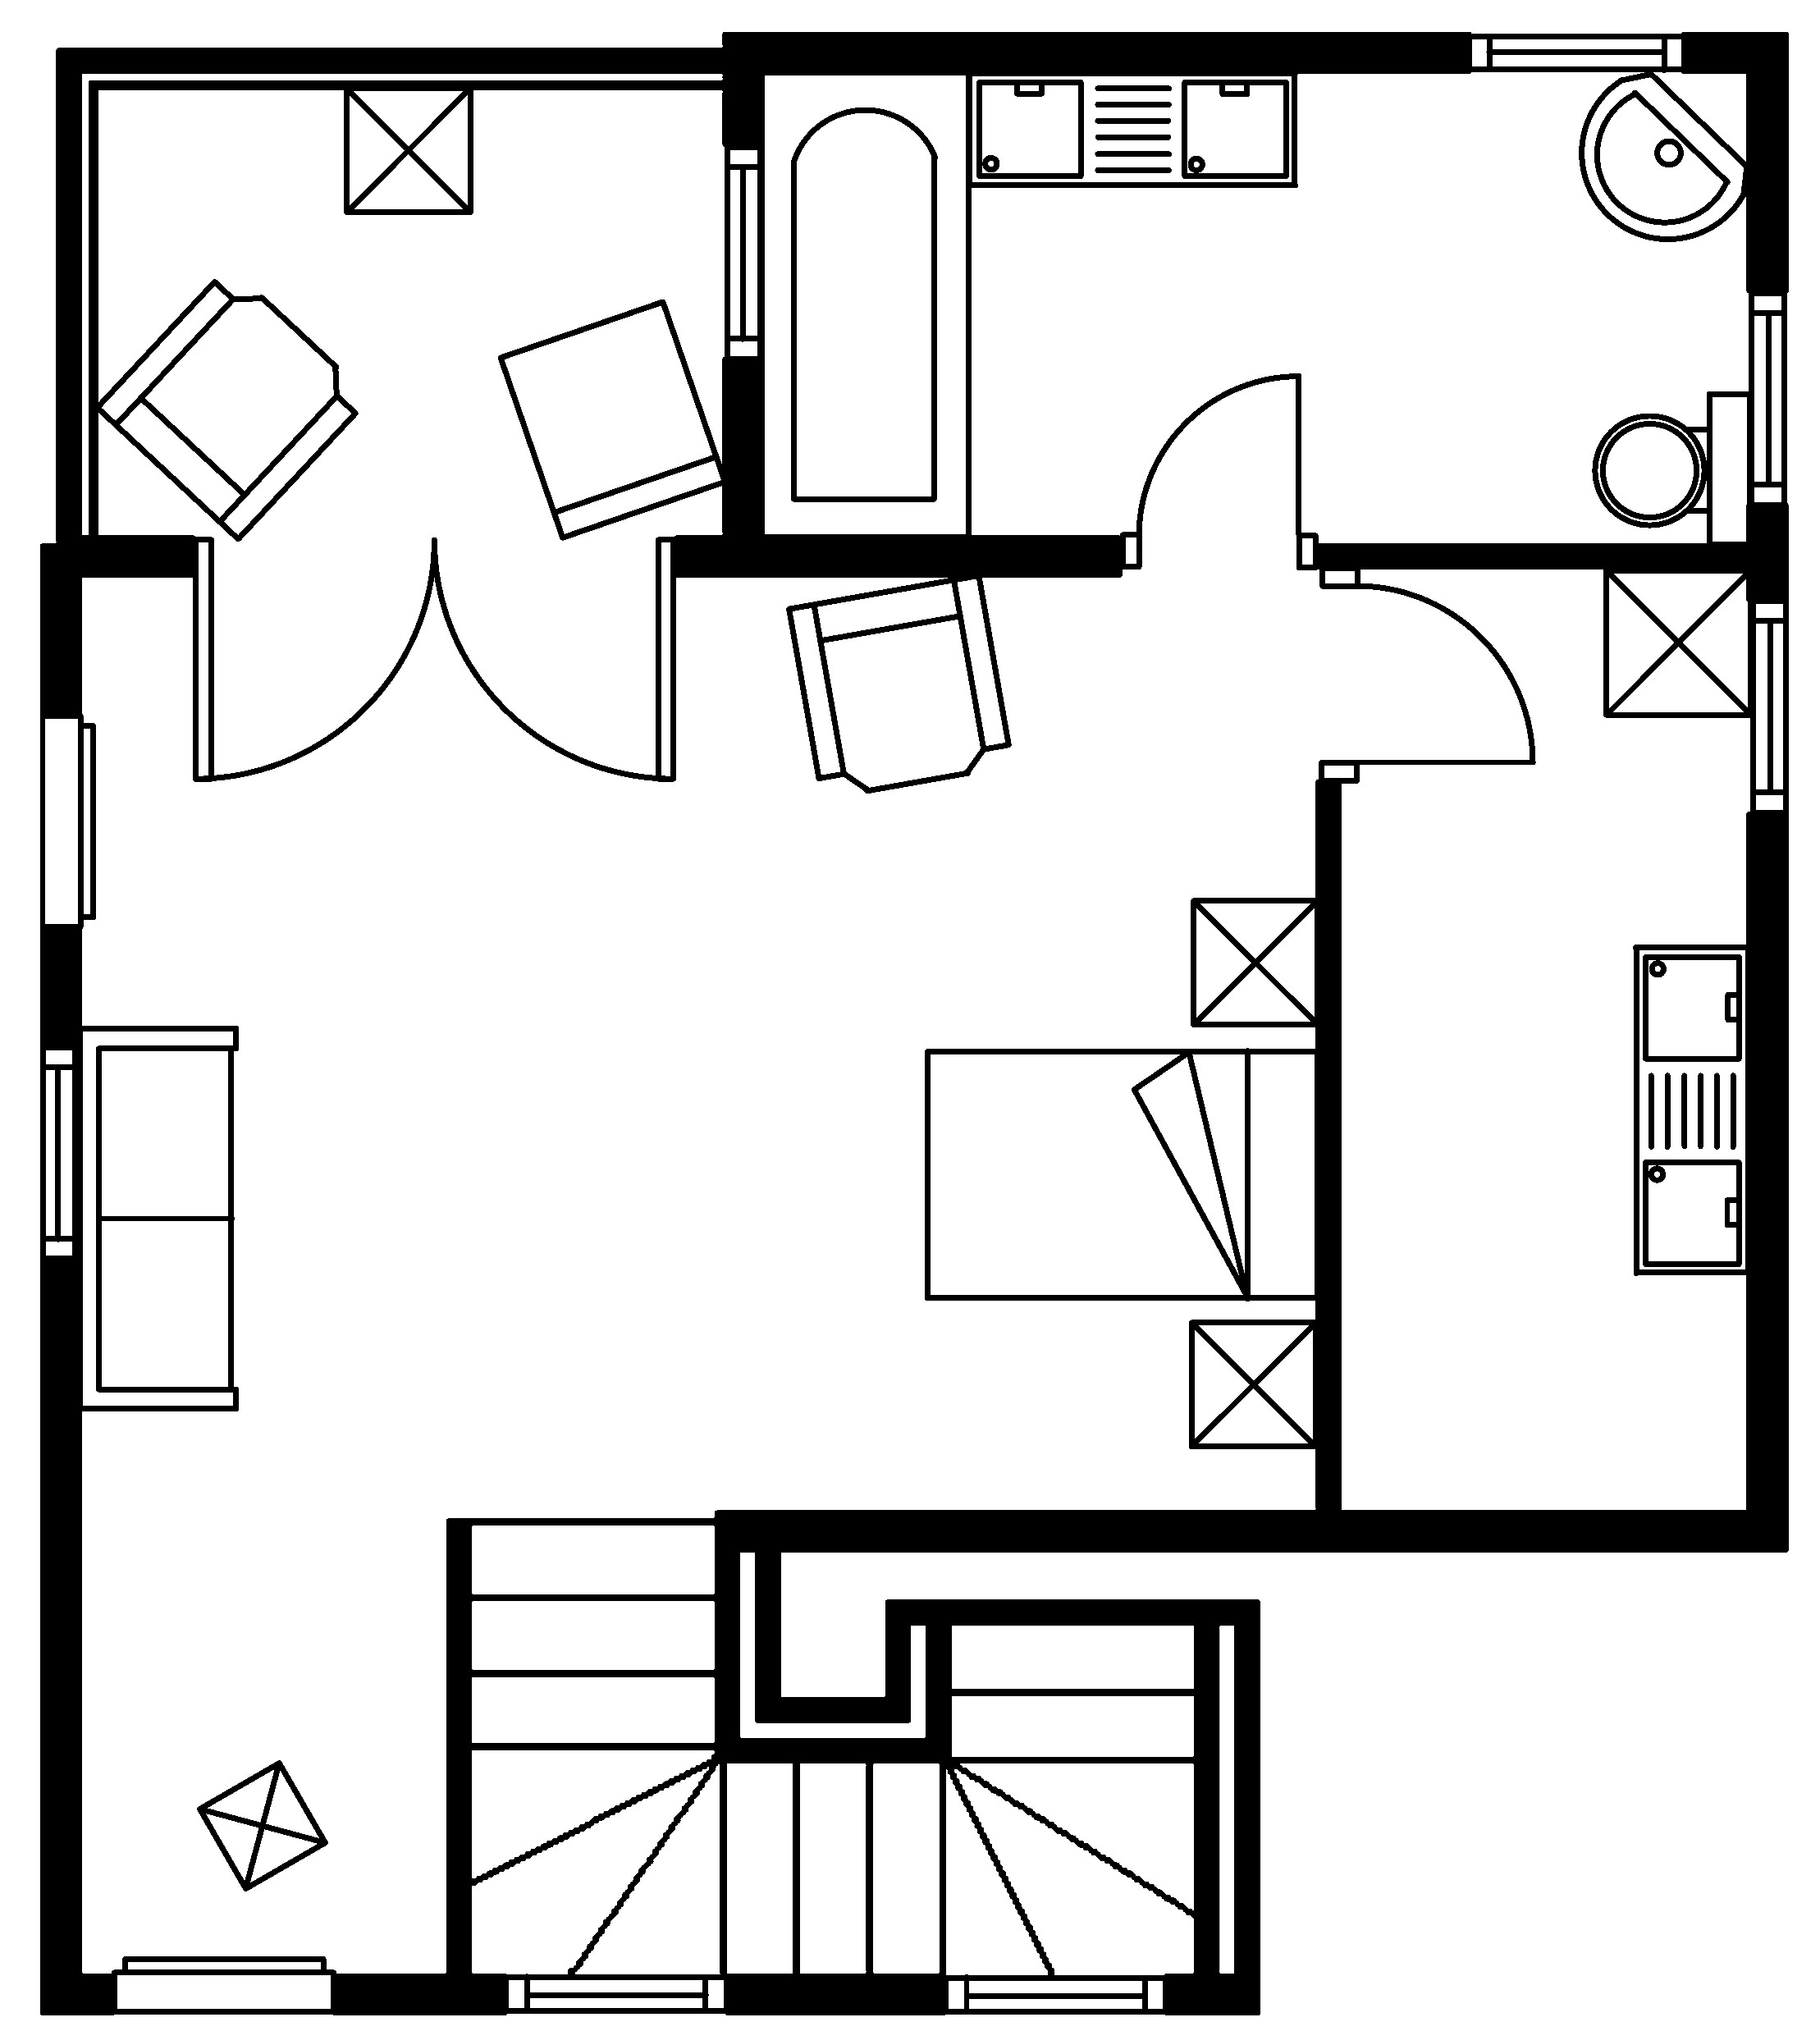armchair: (93, 278, 358, 543), (785, 571, 1012, 794)
bed: (922, 1047, 1321, 1302)
coffee_table: (1602, 566, 1753, 719), (195, 1759, 329, 1892), (1186, 1318, 1319, 1449), (1189, 896, 1321, 1028), (343, 84, 474, 214)
large_sink: (1592, 388, 1753, 548)
large_sofa: (76, 1023, 239, 1411)
small_sink: (1578, 70, 1750, 241)
small_sofa: (495, 297, 727, 541)
tub: (757, 69, 971, 539)
twin_sink: (1630, 943, 1751, 1276), (964, 69, 1298, 188)
